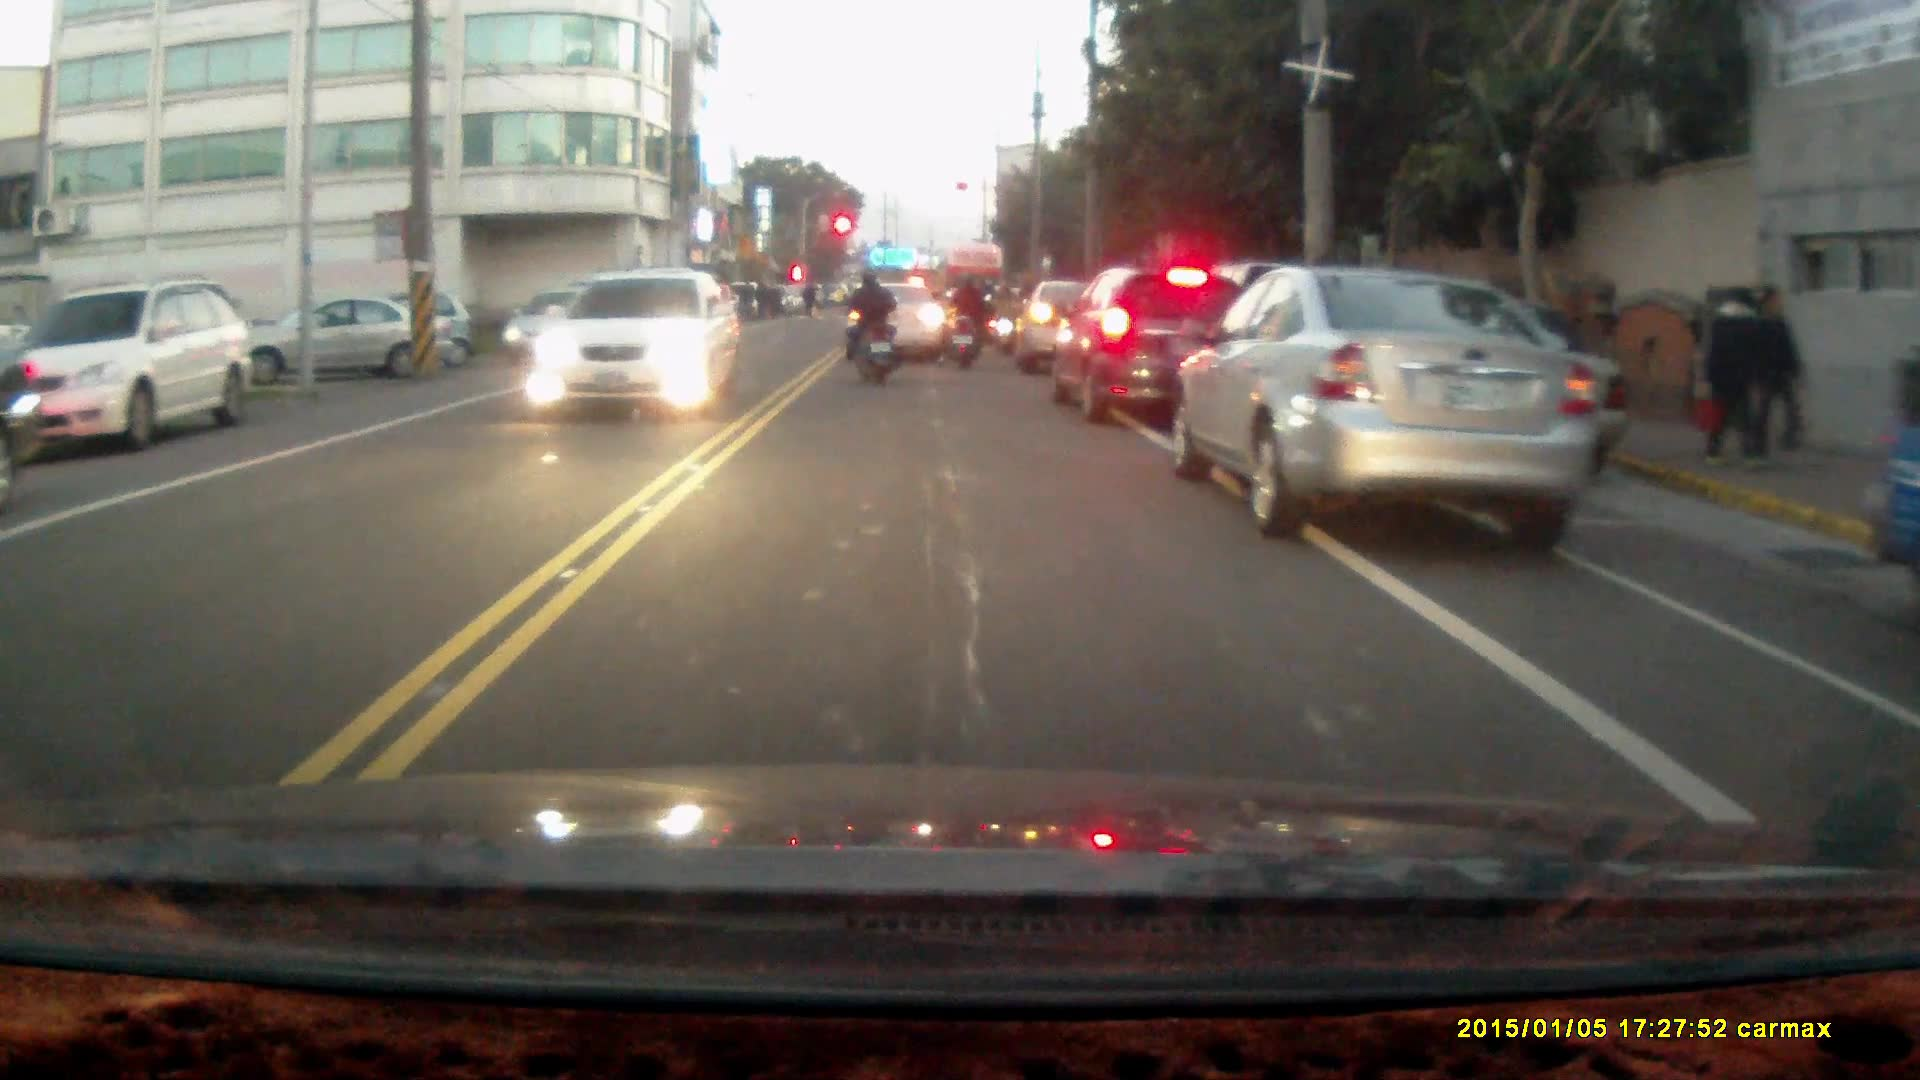pedestrian: (1702, 285, 1762, 472), (1755, 293, 1811, 472)
rider: (842, 267, 896, 385), (943, 271, 993, 368)
vehicle: (1167, 266, 1608, 561), (11, 279, 258, 457), (528, 270, 741, 421), (1051, 272, 1250, 432), (244, 297, 454, 381), (847, 290, 954, 370)
